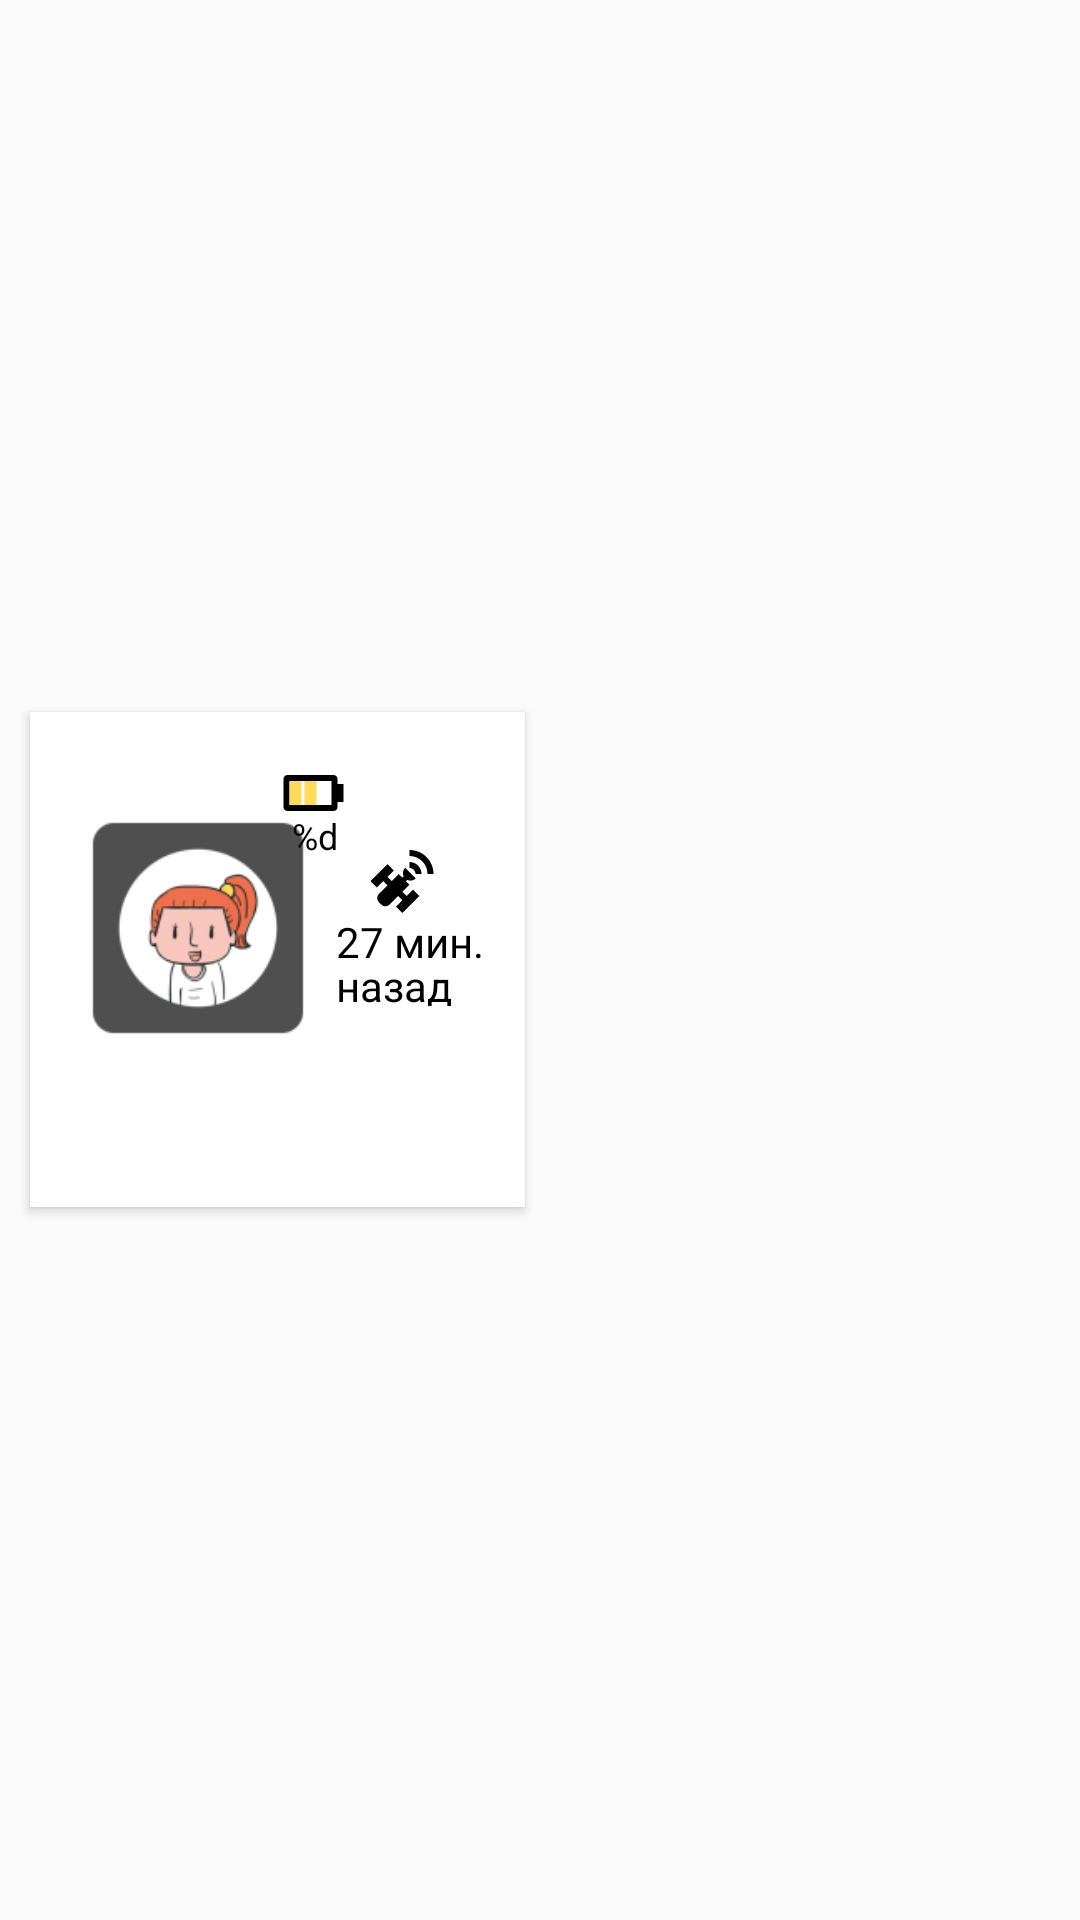

Icons on this 1080 × 1920 Android screen, each with the point to tap as [x,y]:
battery: [313,793]
signal: [402,881]
